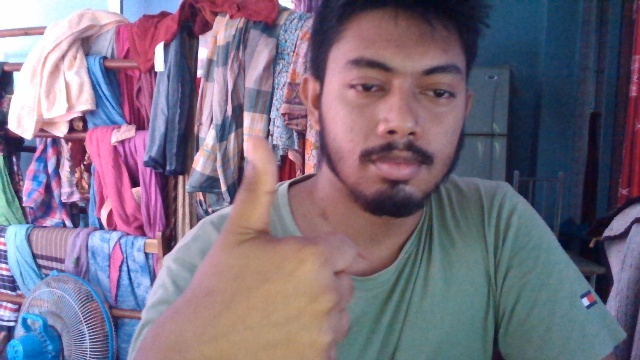yes: (189, 114, 354, 360)
